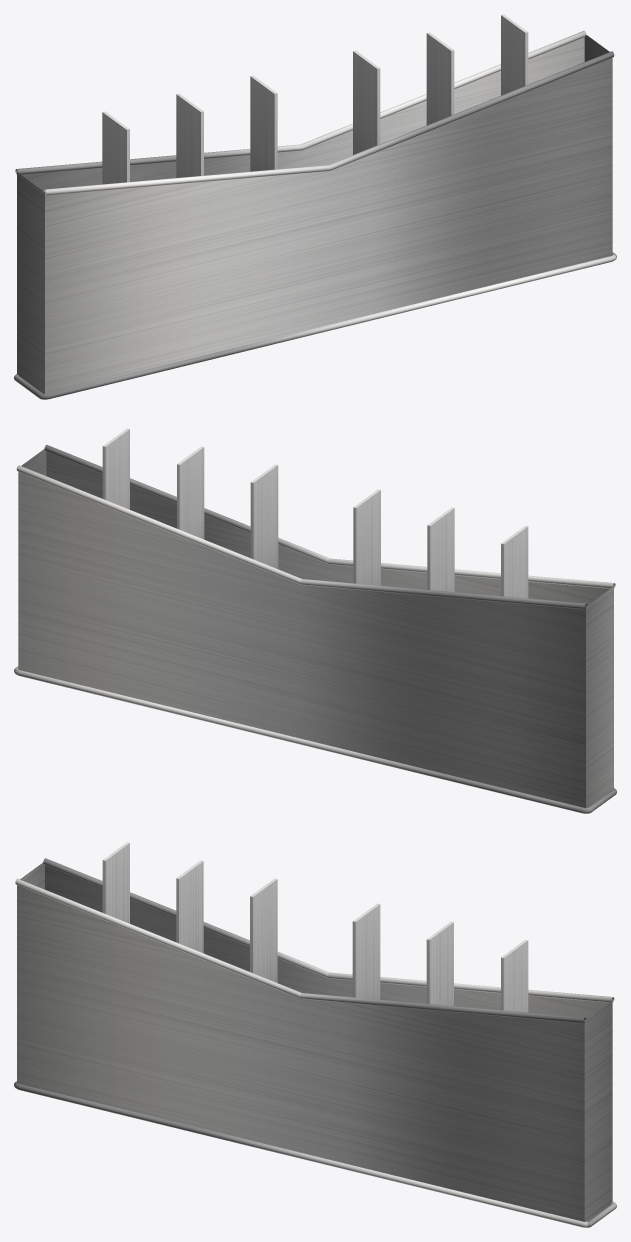
The model's file is Rack.fbx.
The picture shows the model from 3 angles, top to bottom: view 1: azimuth 30°, elevation 25°; view 2: azimuth 150°, elevation 25°; view 3: azimuth 330°, elevation 25°; orthographic projection.
Visible parts, largest first — view 1: Bask_Rack1, Third_Divider9, Third_Divider6, Third_Divider10, Third_Divider7, Third_Divider11, Third_Divider8; view 2: Bask_Rack1, Third_Divider9, Third_Divider6, Third_Divider10, Third_Divider7, Third_Divider11, Third_Divider8; view 3: Bask_Rack1, Third_Divider6, Third_Divider9, Third_Divider7, Third_Divider10, Third_Divider8, Third_Divider11.
Part boxes in pixels (x1,y1,x2,y2): Bask_Rack1: [14, 31, 616, 399]; Third_Divider9: [353, 50, 380, 154]; Third_Divider6: [250, 75, 277, 171]; Third_Divider10: [426, 32, 454, 125]; Third_Divider7: [176, 93, 203, 177]; Third_Divider11: [501, 14, 528, 95]; Third_Divider8: [102, 111, 129, 184]; Bask_Rack1: [14, 445, 616, 813]; Third_Divider9: [250, 464, 278, 568]; Third_Divider6: [353, 489, 380, 585]; Third_Divider10: [177, 446, 204, 539]; Third_Divider7: [427, 507, 454, 591]; Third_Divider11: [102, 428, 129, 509]; Third_Divider8: [501, 525, 528, 598]; Bask_Rack1: [14, 858, 616, 1227]; Third_Divider6: [250, 878, 277, 982]; Third_Divider9: [352, 903, 380, 999]; Third_Divider7: [176, 860, 203, 953]; Third_Divider10: [426, 921, 453, 1005]; Third_Divider8: [102, 842, 129, 923]; Third_Divider11: [501, 939, 528, 1012].
Size of the model in its own units: 12.11 by 4.97 by 1.13.
1 material, 1 textured.
